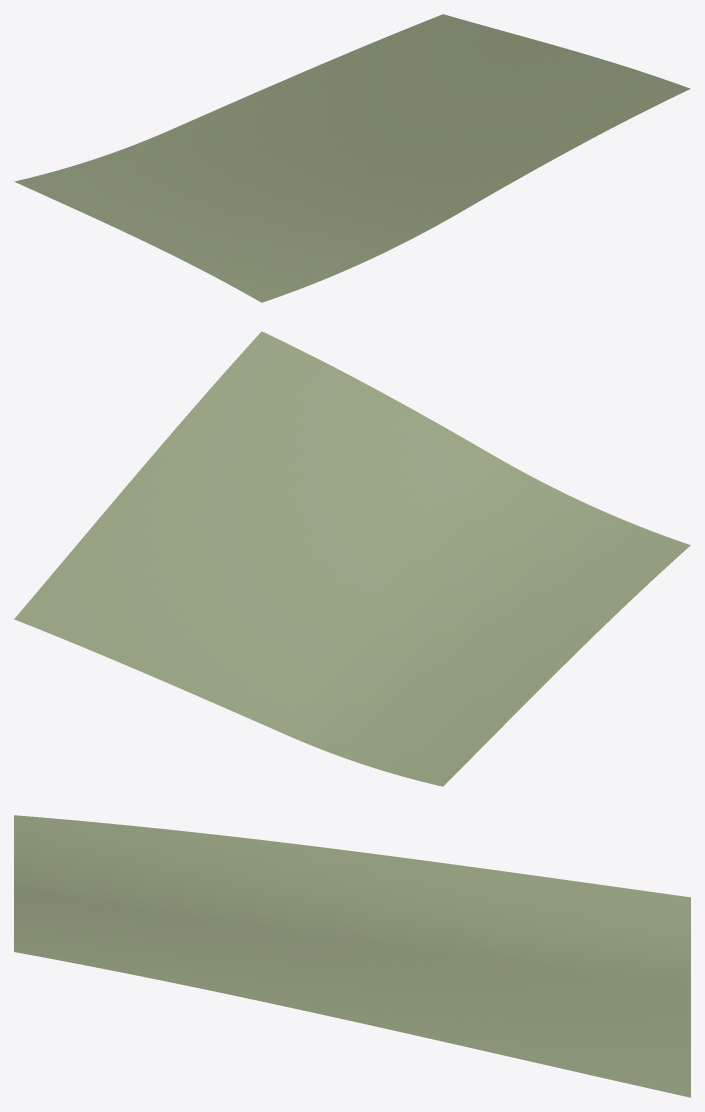
The model's file is expanse-25-5.glb.
3 renders of one model, top to bottom at view 1: azimuth 30°, elevation 25°; view 2: azimuth 150°, elevation 25°; view 3: azimuth 270°, elevation 25°, orthographic. The views are drawn at different scales.
Visible parts, largest first — view 1: expanse-25-5; view 2: expanse-25-5; view 3: expanse-25-5.
Part boxes in pixels (<box>): expanse-25-5: <box>14,14,690,302</box>; expanse-25-5: <box>14,331,690,786</box>; expanse-25-5: <box>14,815,690,1097</box>.
Size of the model in its own units: 256 by 96.65 by 256.
